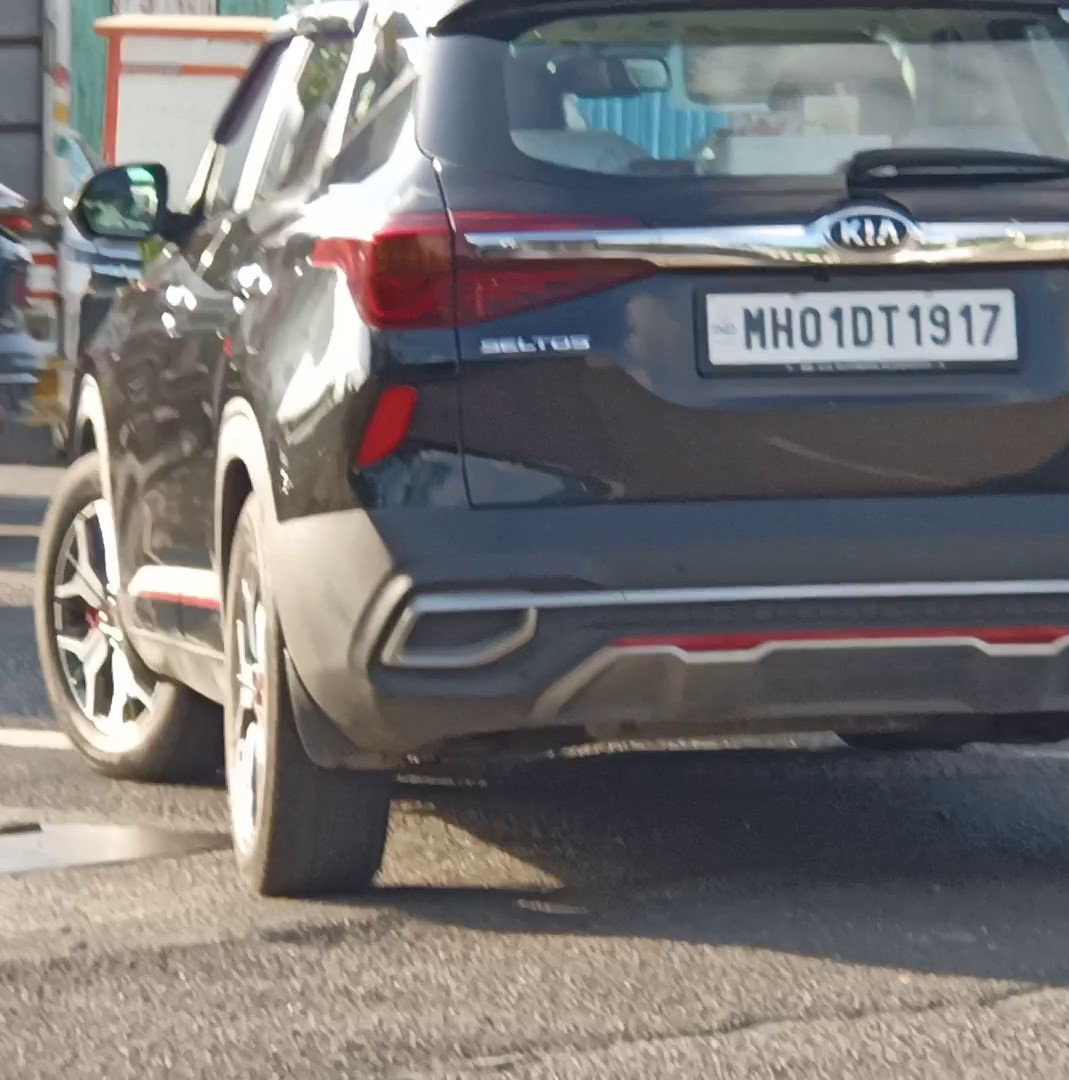MH01DT1917: (705, 290, 1021, 363)
